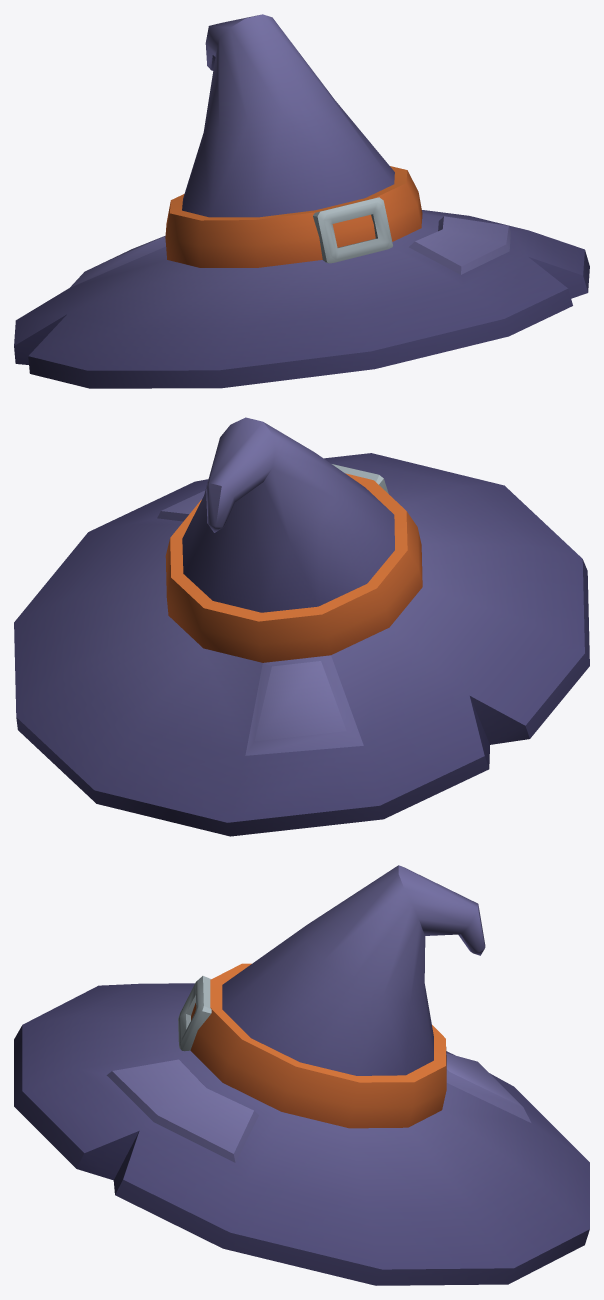
Rendered from WitchHat.fbx.
3 views of the same model, one above another, from view 1: azimuth 30°, elevation 25°; view 2: azimuth 150°, elevation 25°; view 3: azimuth 270°, elevation 25° (orthographic). The views are drawn at different scales.
Visible parts, largest first — view 1: Mage_Hat; view 2: Mage_Hat; view 3: Mage_Hat.
Boxes of the visible parts, <box> form: Mage_Hat: <box>14,14,589,388</box>; Mage_Hat: <box>14,417,589,836</box>; Mage_Hat: <box>14,865,589,1285</box>.
Bounding box in the file's own units: 209 × 134 × 204.
Materials: 1 (1 with a texture image).
